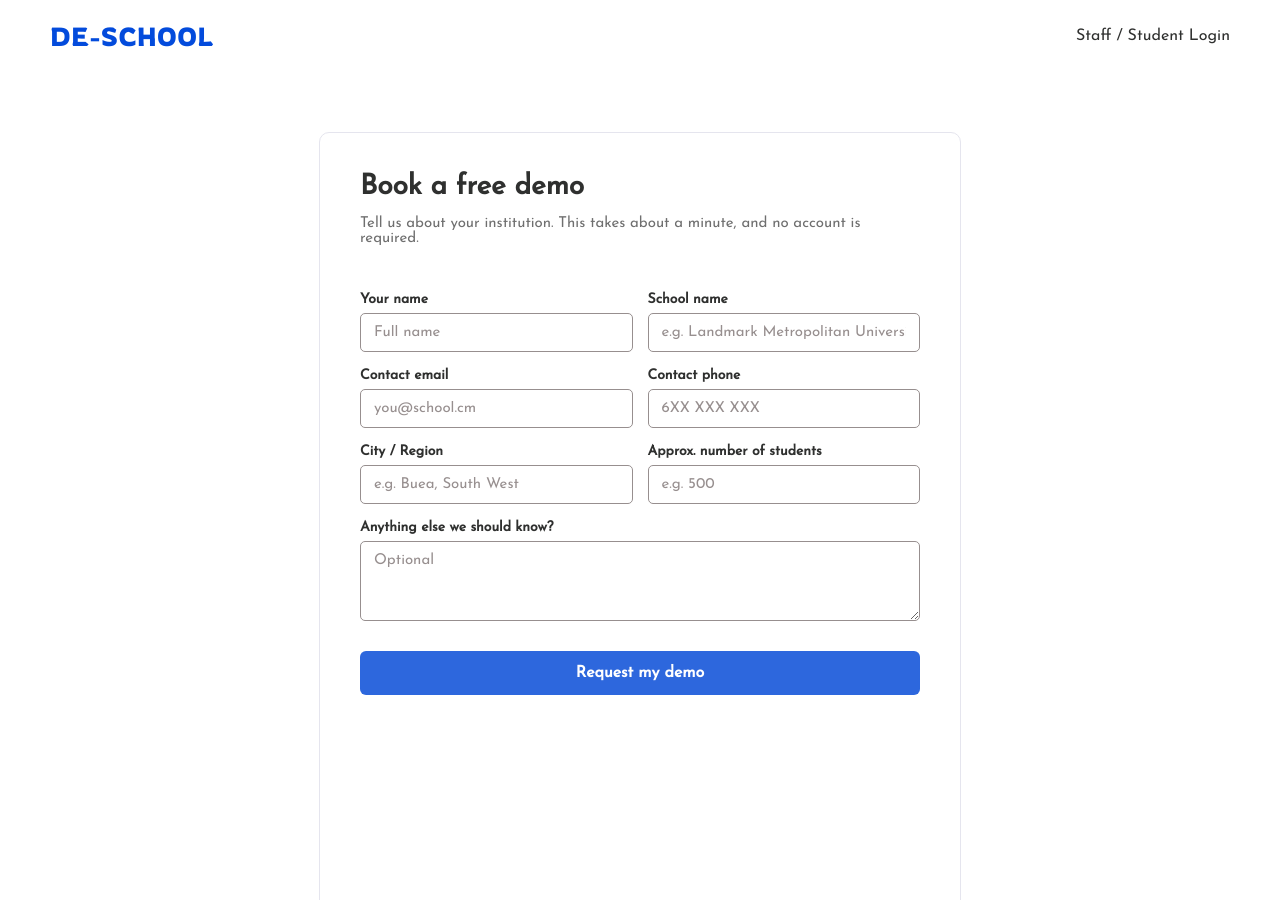
Test: BookDemo › shows a confirmation screen after a successful submission
Type "Marie Ngu" into the field with placeholder "Full name" at (496, 332), box [360,313,632,352]
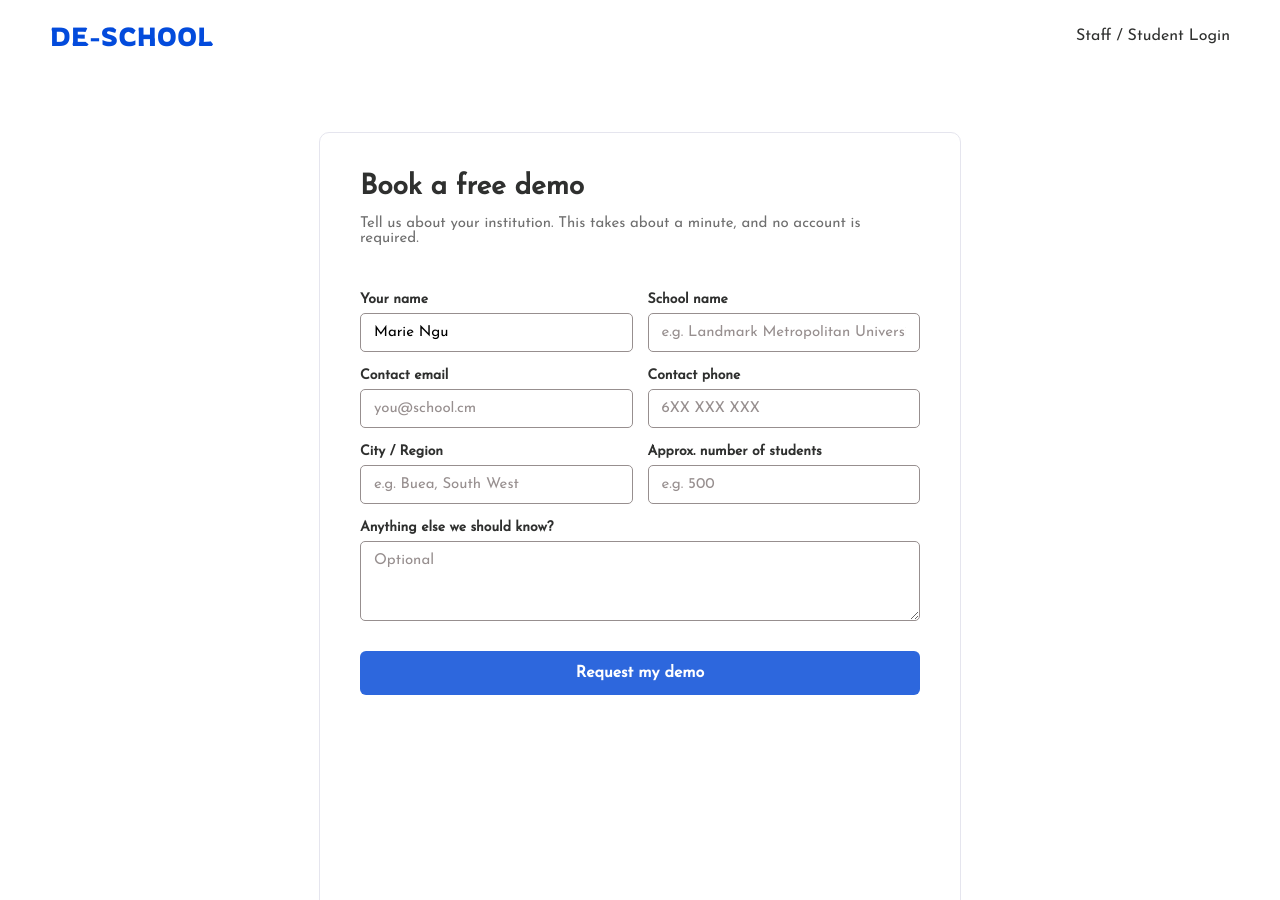
Type "Bright Future" into the field with placeholder "e.g. Landmark Metropolitan University" at (784, 332), box [648,313,920,352]
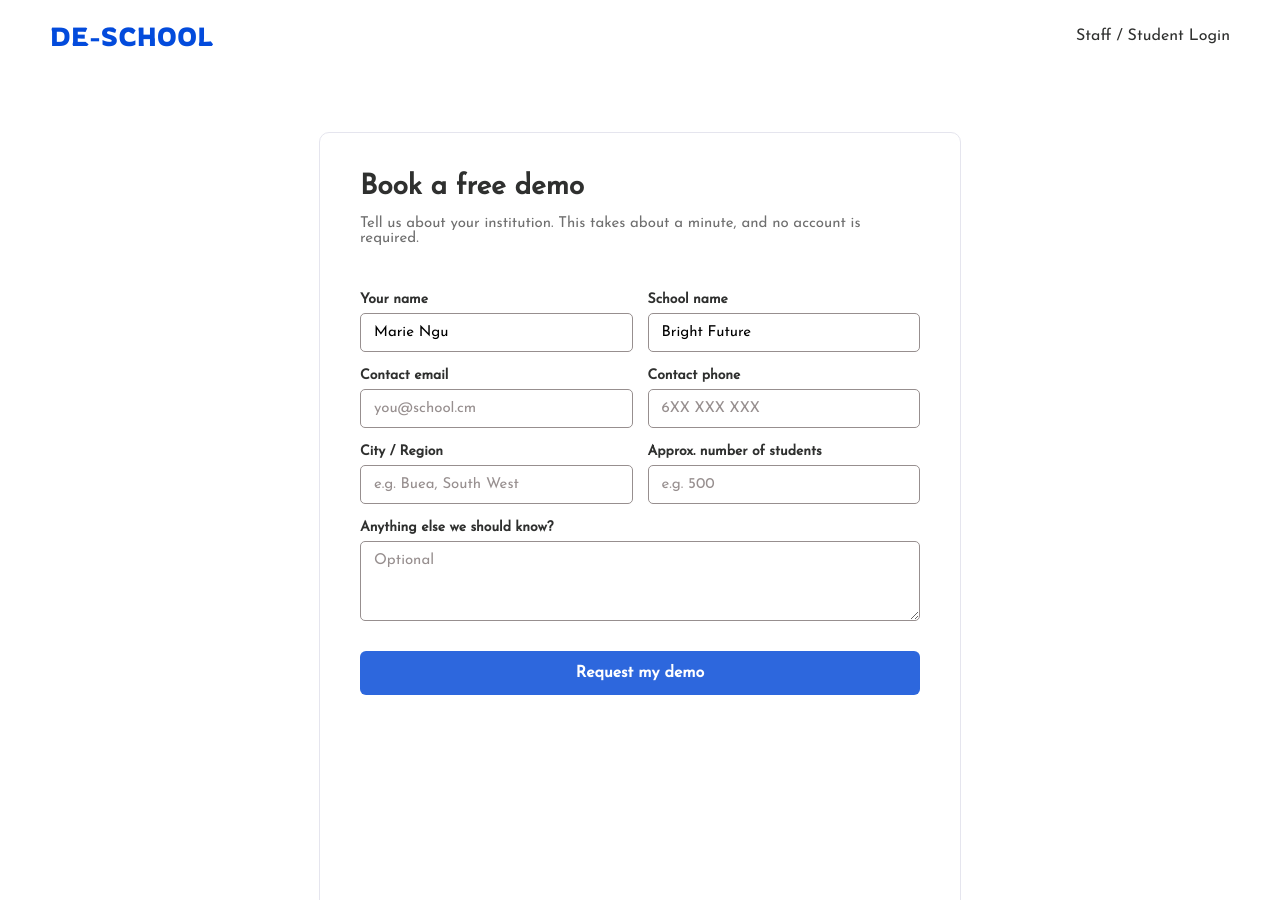
Type "marie@school.cm" into the field with placeholder "you@school.cm" at (496, 408), box [360,389,632,428]
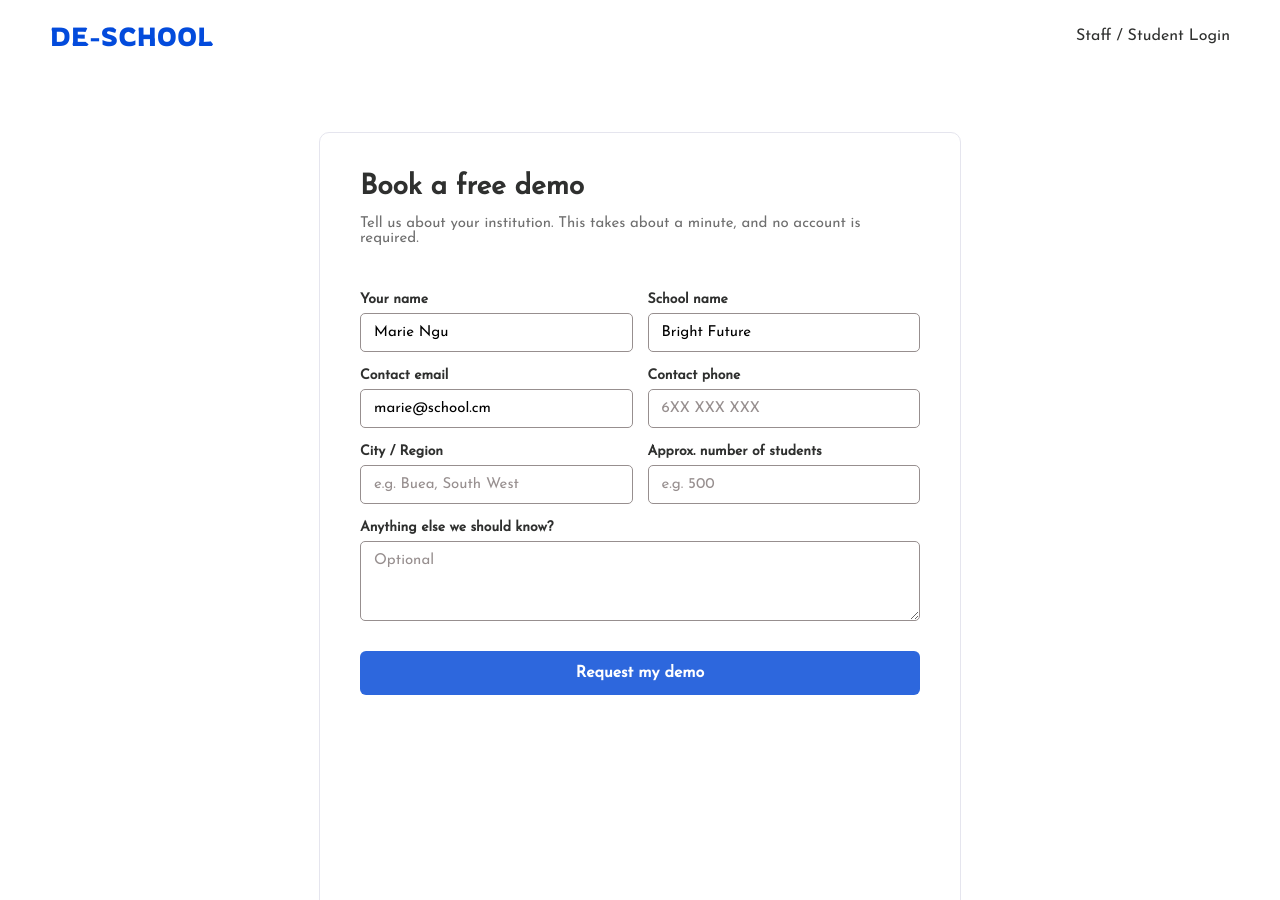
Click the button "Request my demo" at (640, 673), box [360,651,920,695]
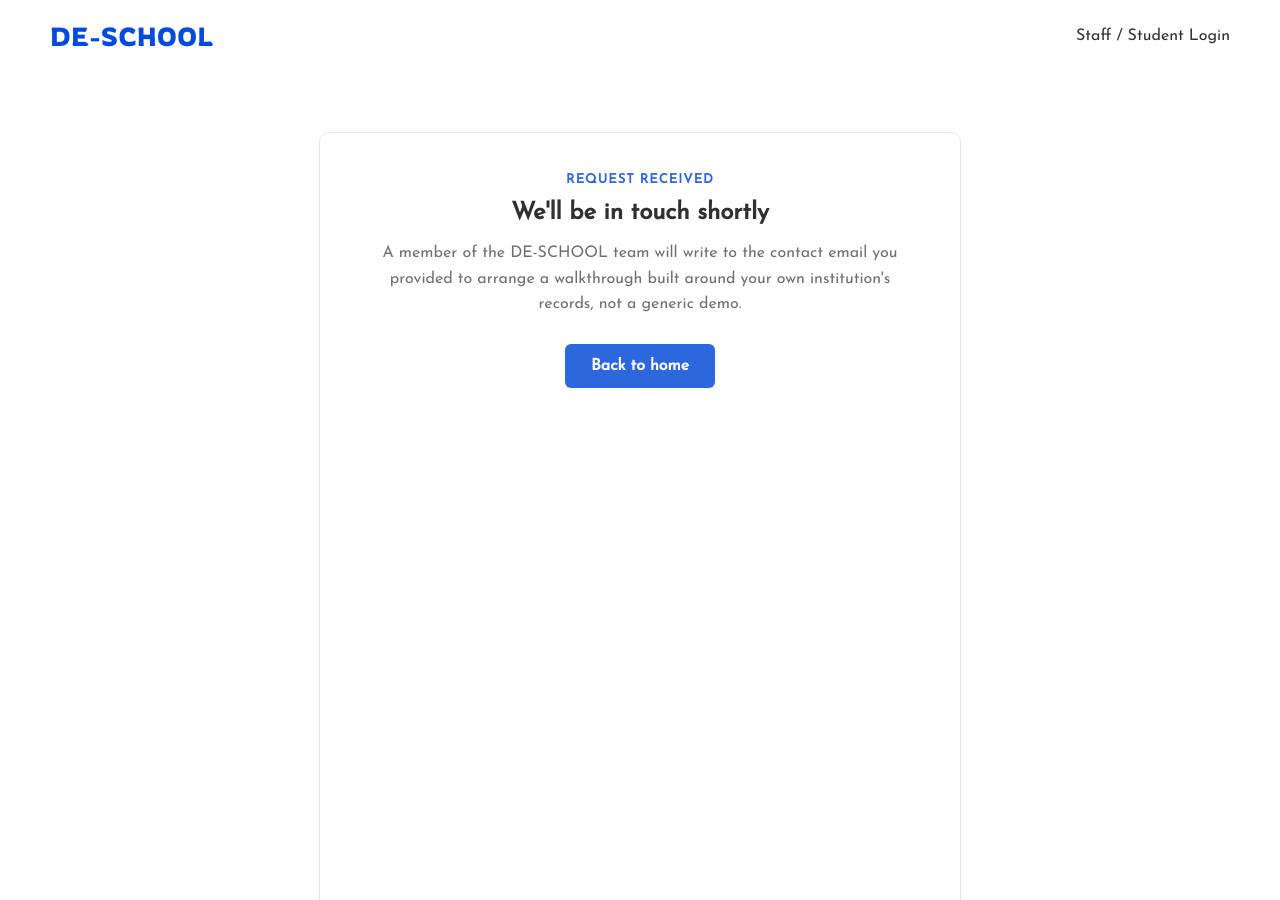
Result: the heading "We'll be in touch shortly" is shown at [511,201,769,225]
